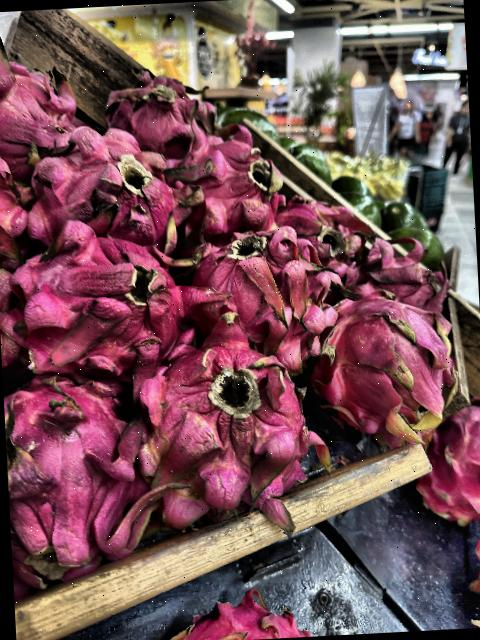buah-naga-belum-matang: (323, 285, 454, 446)
buah-naga-matang: (142, 328, 318, 516), (3, 367, 148, 571), (15, 214, 196, 374), (191, 216, 334, 372), (26, 118, 192, 250), (165, 107, 283, 230), (92, 61, 218, 156), (0, 36, 76, 167), (279, 187, 369, 288), (354, 235, 446, 318), (419, 396, 480, 521)
